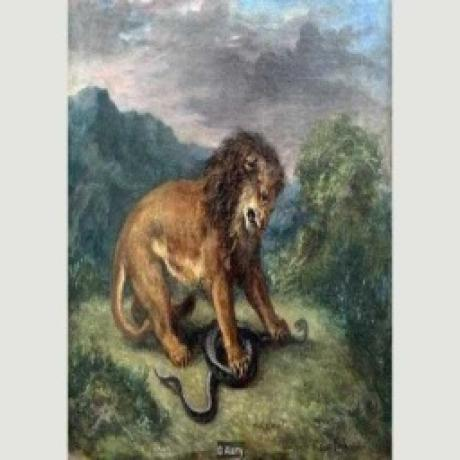Lion: (106, 125, 296, 381)
